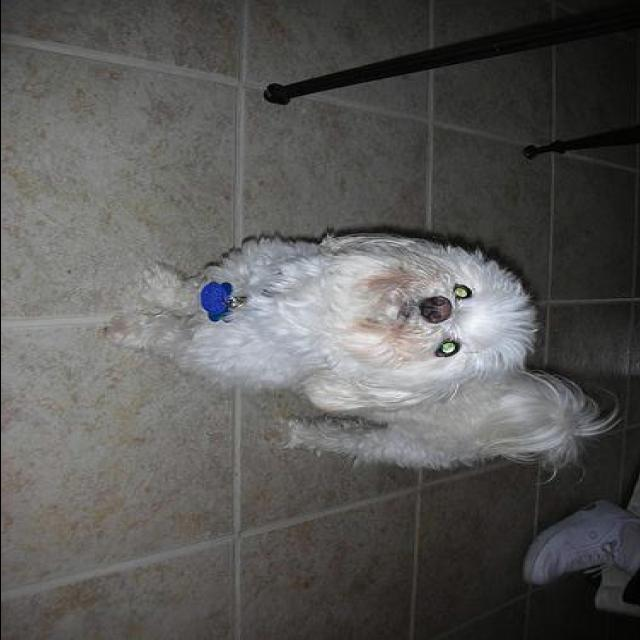maltese_dog: (99, 228, 618, 478)
